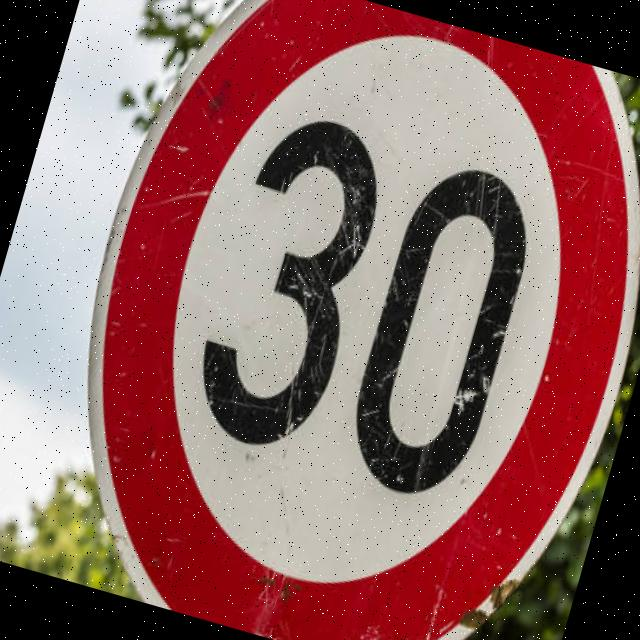speed_limit_30: (10, 0, 640, 640)
